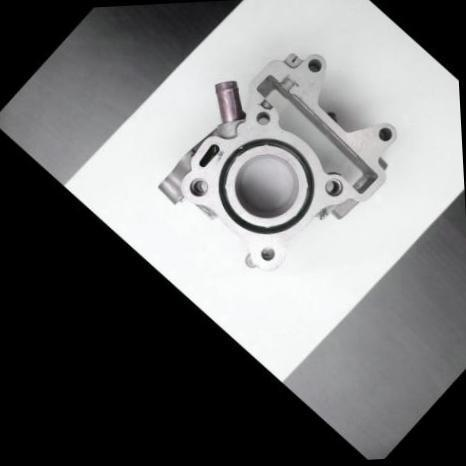hole: (179, 171, 212, 203), (316, 172, 346, 201), (372, 120, 396, 146), (254, 240, 278, 265), (302, 53, 325, 76), (250, 105, 272, 128)
